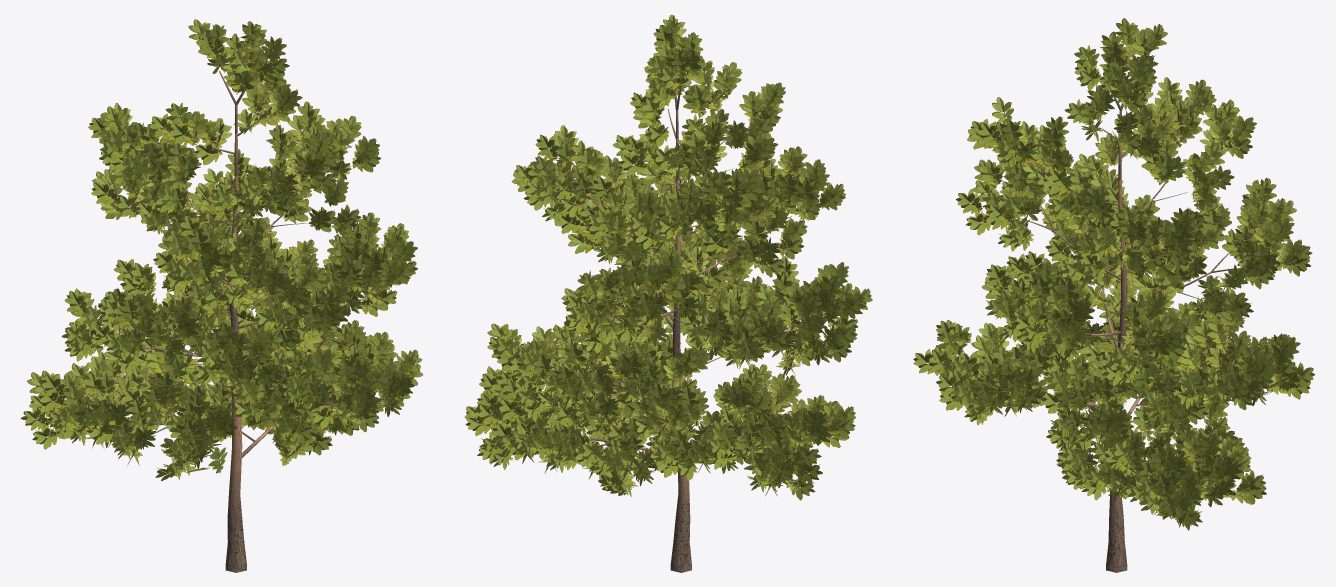
Rendered from shu2.FBX.
The picture shows the model from 3 angles, left to right: view 1: azimuth 30°, elevation 25°; view 2: azimuth 150°, elevation 25°; view 3: azimuth 270°, elevation 25°; orthographic projection.
Parts seen in each view (by area): view 1: shu2; view 2: shu2; view 3: shu2.
Part boxes in pixels (bbox=[...]): shu2: bbox=[20, 19, 423, 572]; shu2: bbox=[464, 14, 872, 572]; shu2: bbox=[913, 18, 1315, 572].
Size of the model in its own units: 562 by 788 by 545.
2 materials, 2 textured.
